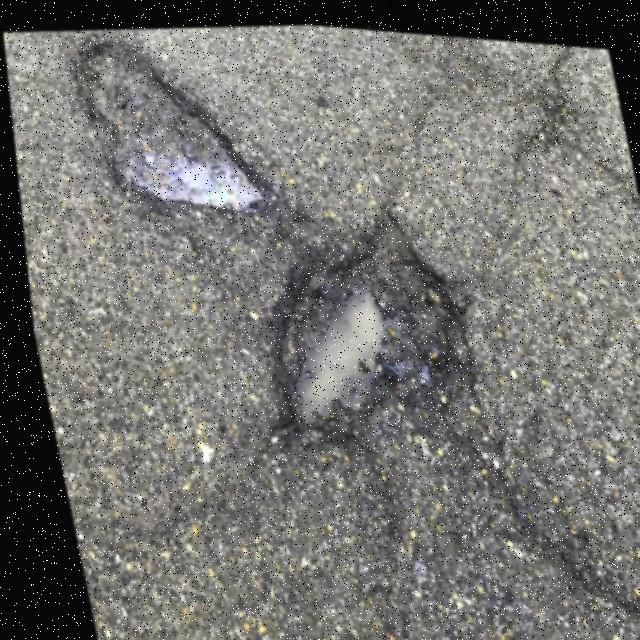pothole: (223, 182, 478, 444), (69, 12, 275, 235)
